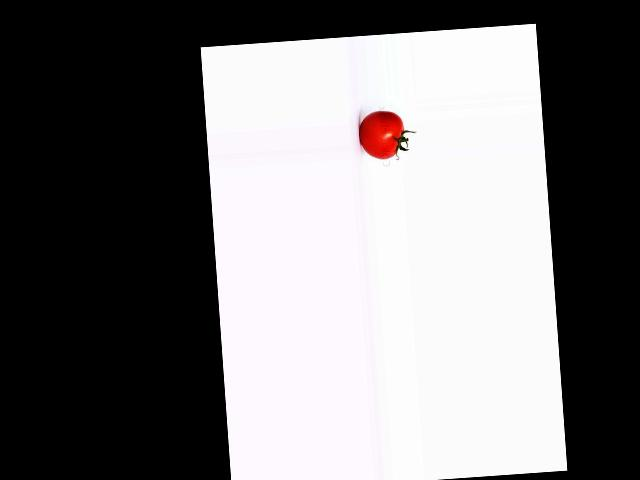tomato: (358, 109, 405, 160)
